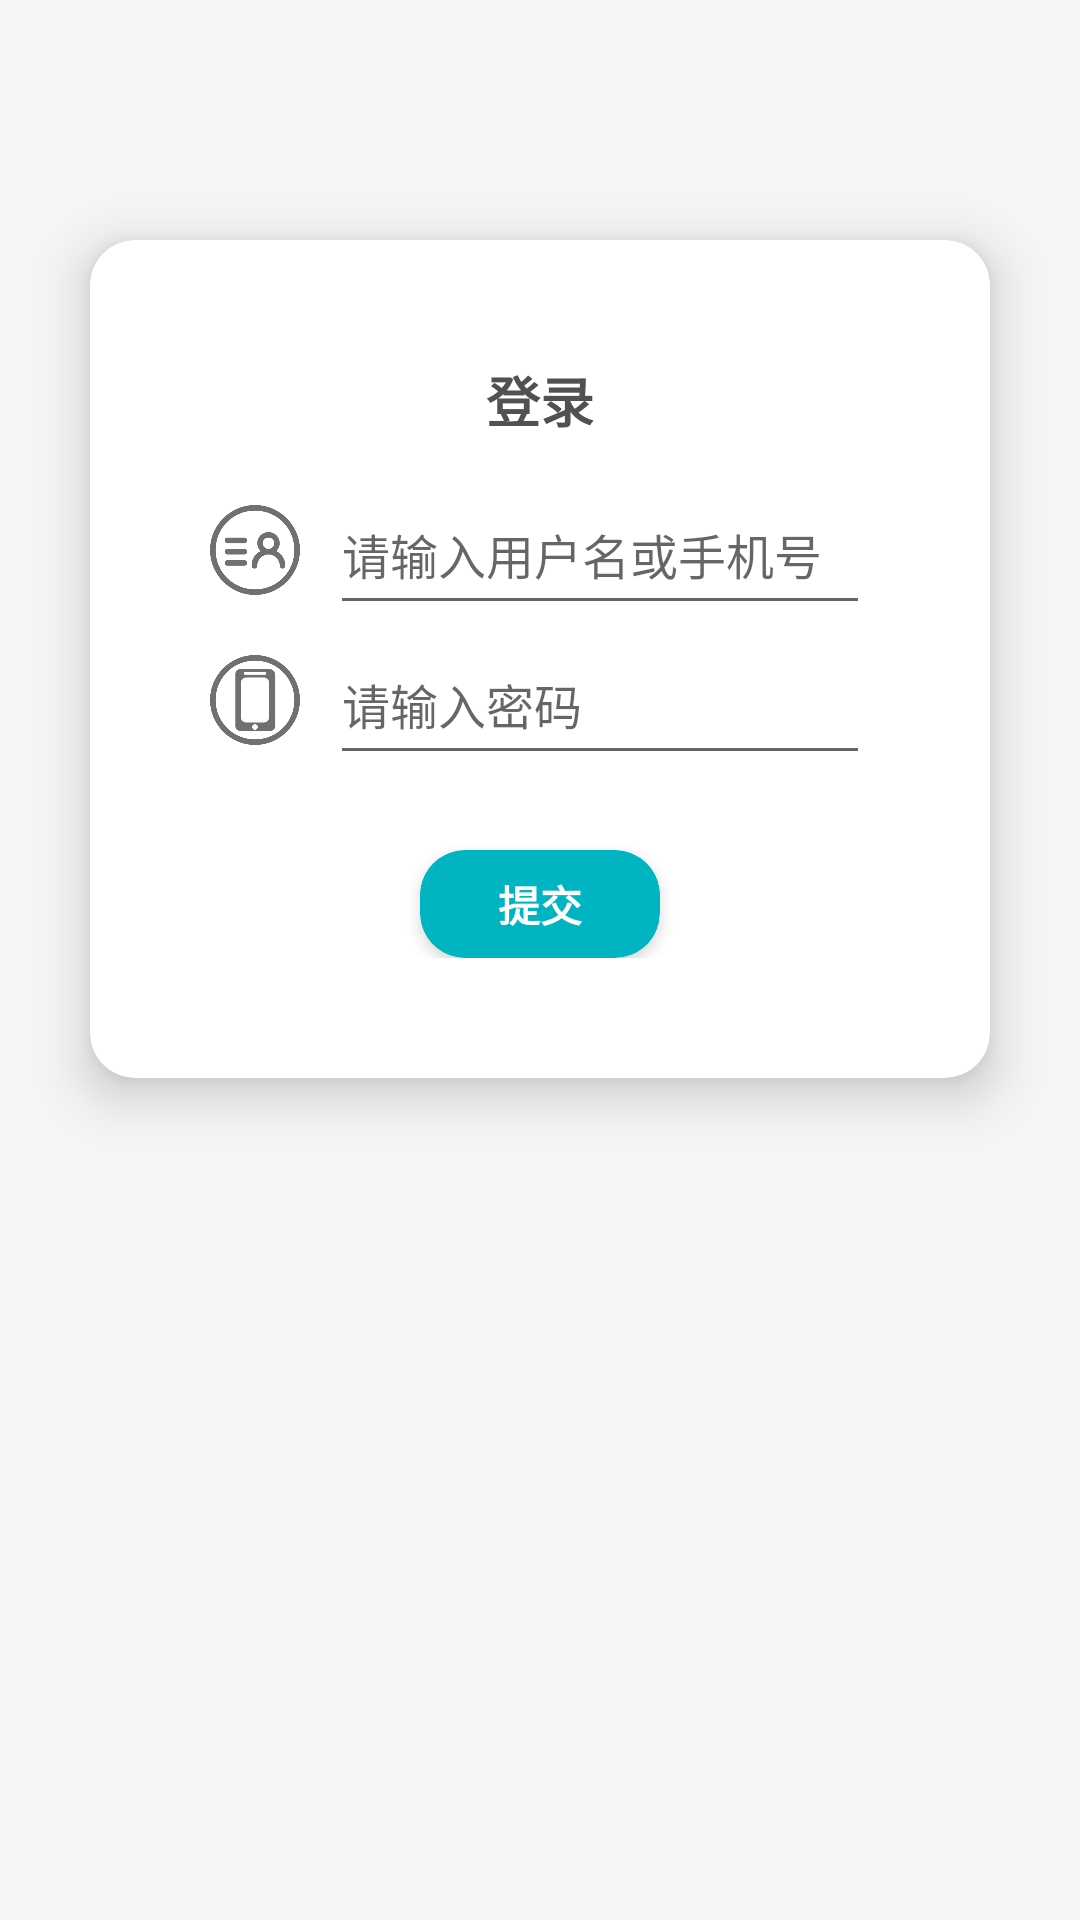

Named icons in this screenshot (1080 x 1920) and their bounding boxes, (x1=x1, y1=y1, x2=x2, y2=y2):
tel: (x1=210, y1=655, x2=300, y2=745)
